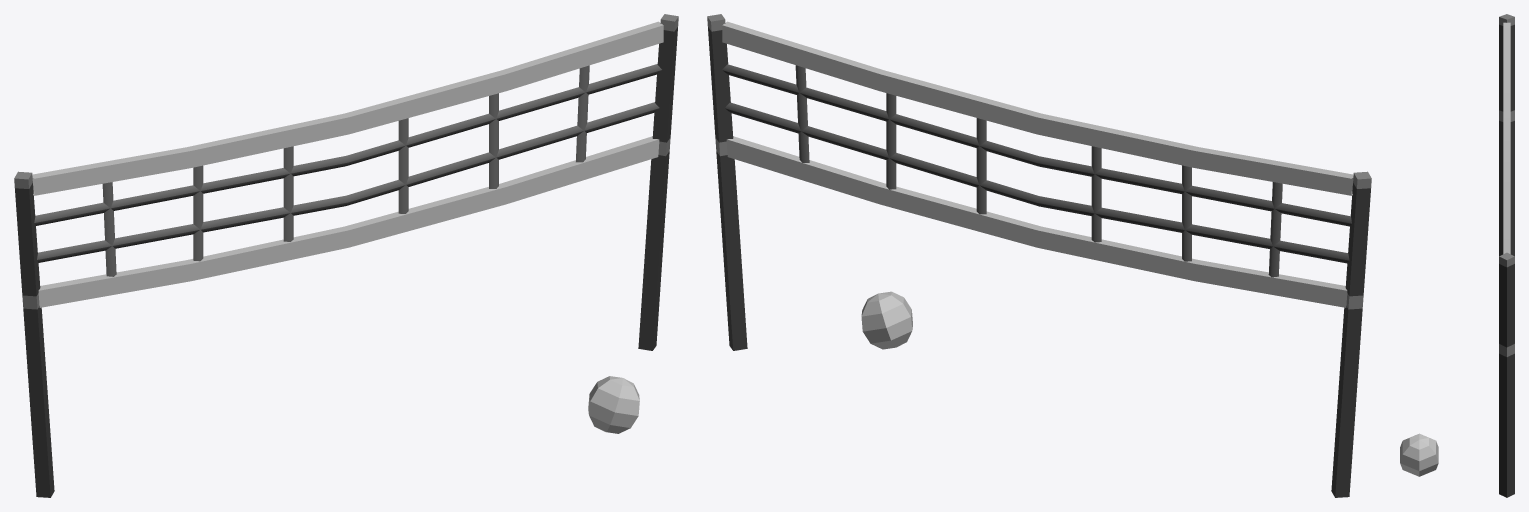
File: obs_med_volleyball (1).fbx
The picture shows the model from 3 angles, left to right: view 1: azimuth 30°, elevation 25°; view 2: azimuth 150°, elevation 25°; view 3: azimuth 270°, elevation 25°; orthographic projection. The views are drawn at different scales.
Parts seen in each view (by area): view 1: pCube67, pSphere10; view 2: pCube67, pSphere10; view 3: pCube67, pSphere10.
Boxes of the visible parts, x1,y1,x2,y2 form: pCube67: (14,14,678,497); pSphere10: (588,376,639,433); pCube67: (707,14,1371,497); pSphere10: (861,291,912,349); pCube67: (1499,14,1514,497); pSphere10: (1400,433,1438,476).
Bounding box in the file's own units: 5.88 × 2.91 × 1.16.
